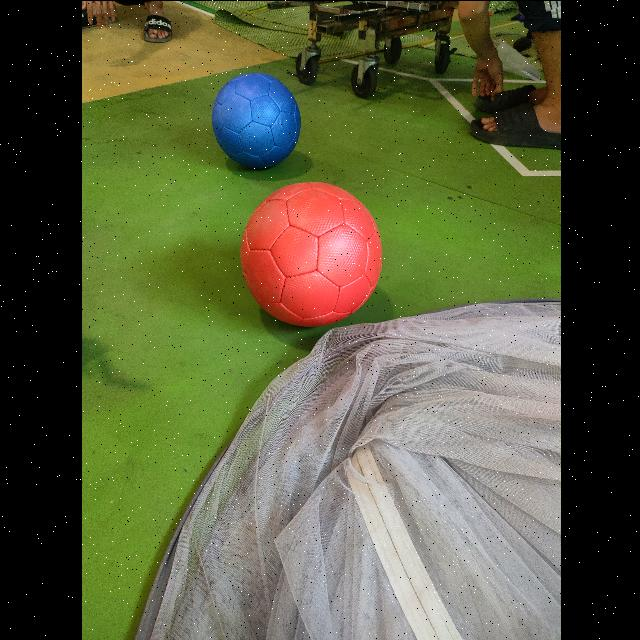B: (210, 73, 301, 171)
R: (238, 182, 382, 329)
